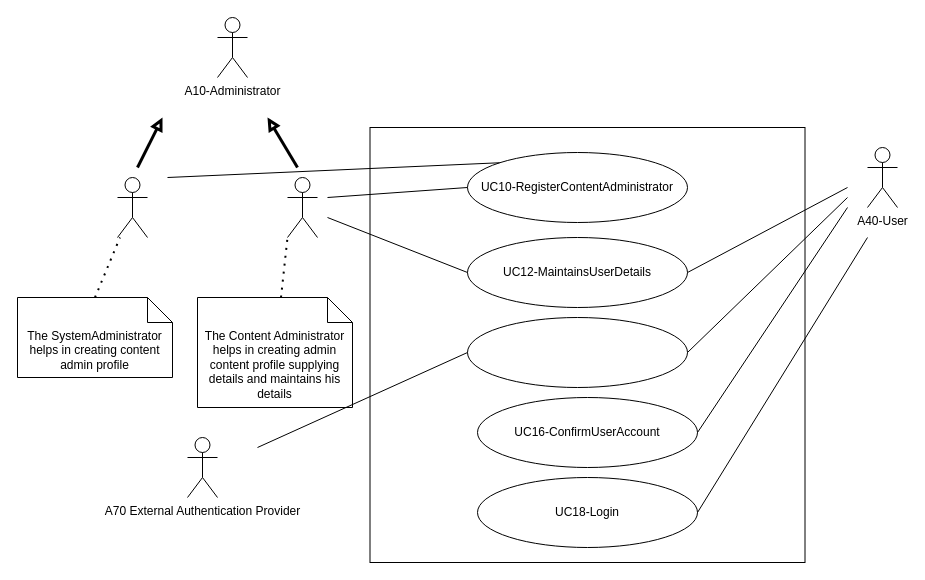
The diagram is 925 pixels wide and 580 high, and some of its shapes have lost their labels. The centre of each missing label's shape, as x and y in pixels:
A20 System Administrator: the point at 132,207
A30 Content Administrator: the point at 302,207
UC14-RegisterUser: the point at 577,352
